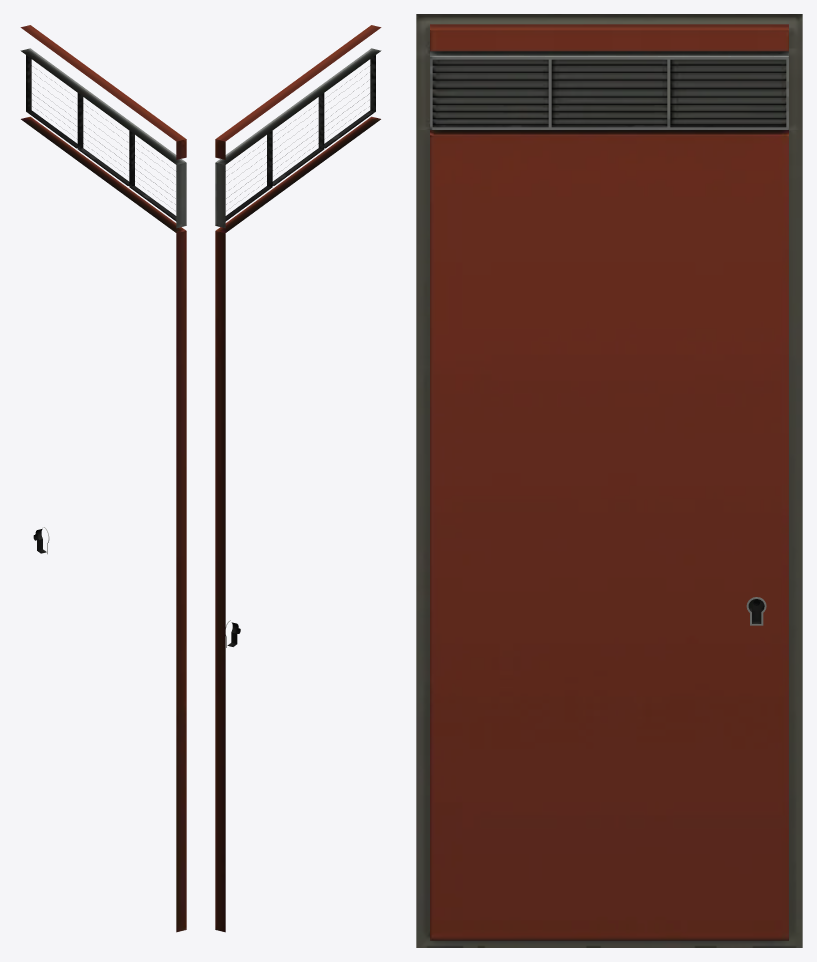
The picture shows the model from 3 angles, left to right: view 1: azimuth 30°, elevation 25°; view 2: azimuth 150°, elevation 25°; view 3: azimuth 270°, elevation 25°; orthographic projection. The views are drawn at different scales.
Parts seen in each view (by area): view 1: body0_model0_lod0_mesh0; view 2: body0_model0_lod0_mesh0; view 3: body0_model0_lod0_mesh0.
Boxes of the visible parts, x1,y1,x2,y2 form: body0_model0_lod0_mesh0: [20, 25, 186, 932]; body0_model0_lod0_mesh0: [215, 25, 381, 932]; body0_model0_lod0_mesh0: [416, 14, 802, 947].
Size of the model in its own units: 1.73 by 128 by 48.01.
Materials: 1 (1 with a texture image).
